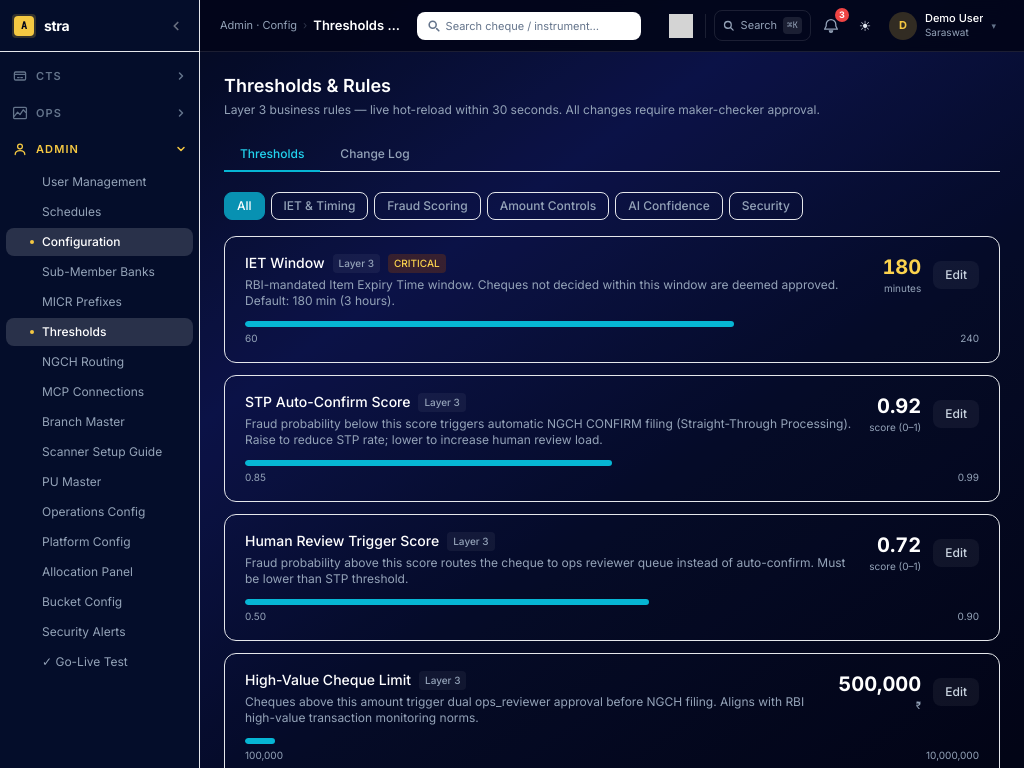
CTSThresholds › clicking Edit on editable threshold opens modal
Click the button "Edit" next to "minutes". click: (956,274)
box: [933,260,979,288]
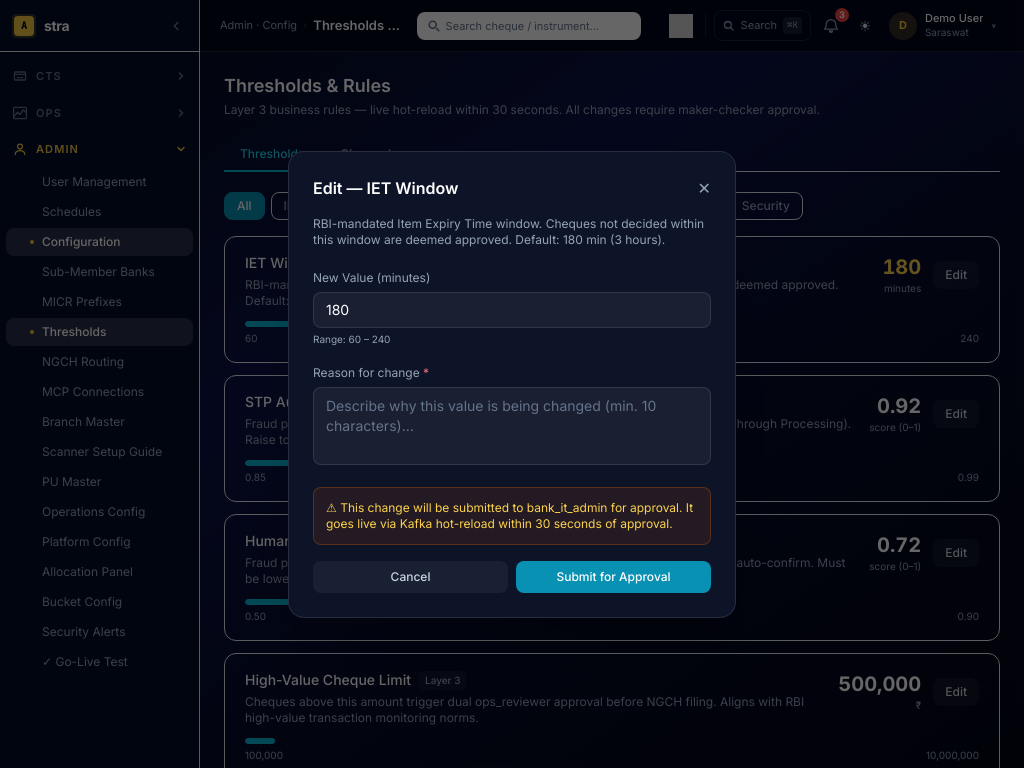
Expected: the button "Submit for Approval" is shown, [516,560,711,592]
